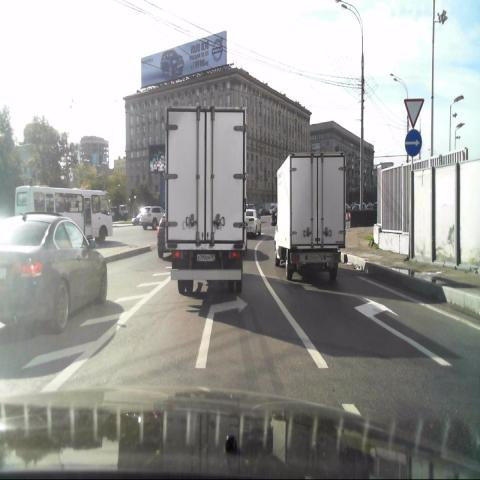4_1_2_1: (403, 129, 423, 157)
